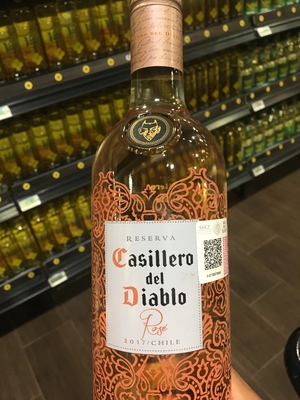casillero del diablo rose: (66, 16, 255, 399)
